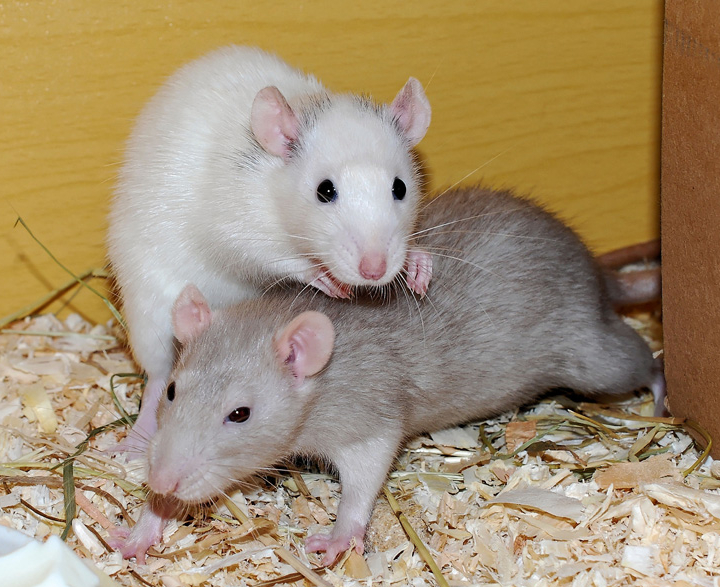rat: (90, 36, 456, 321), (120, 279, 436, 576)
